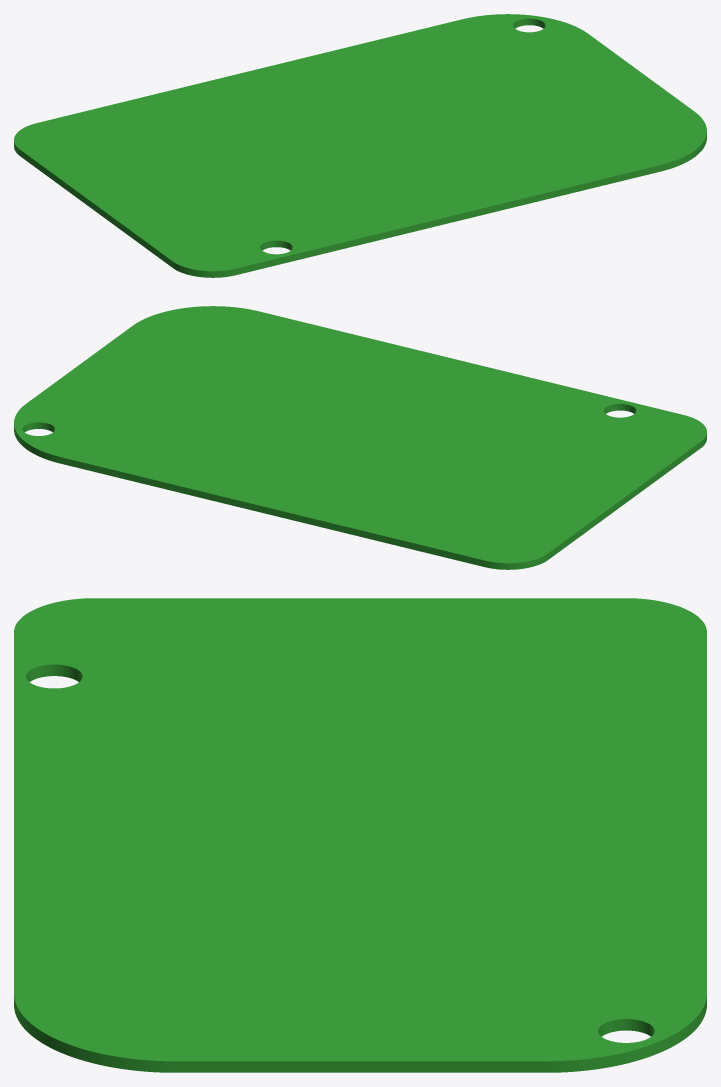
3 renders of one model, top to bottom at view 1: azimuth 30°, elevation 25°; view 2: azimuth 150°, elevation 25°; view 3: azimuth 270°, elevation 25°, orthographic. The views are drawn at different scales.
Visible parts, largest first — view 1: out; view 2: out; view 3: out.
Part boxes in pixels (x1,y1,x2,y2): out: (14, 14, 706, 277); out: (14, 306, 706, 569); out: (14, 598, 706, 1072).
Bounding box in the file's own units: 0.0864 × 0.001 × 0.0546.
